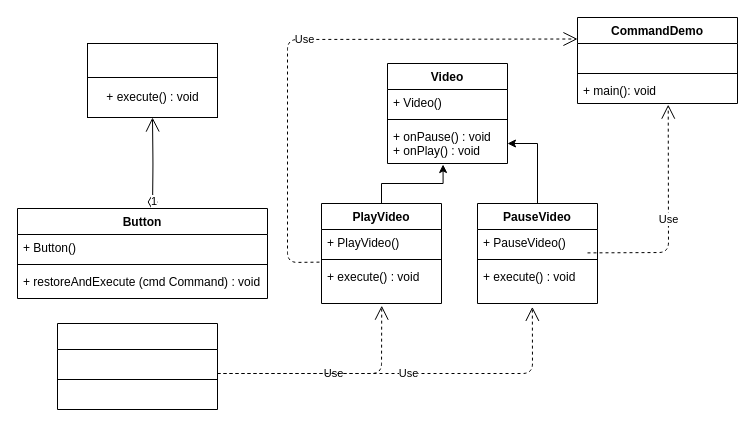
Image size: 755x430. Some labels were removed from this diagram. The centre of each missing label's shape, as x and y in pixels:
Client: pixel 137 366
«interface» Command: pixel 152 60
